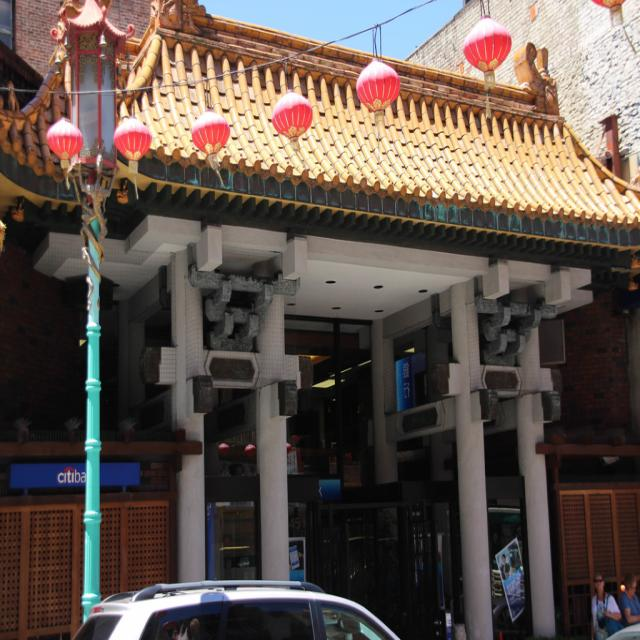car: (70, 578, 397, 638)
